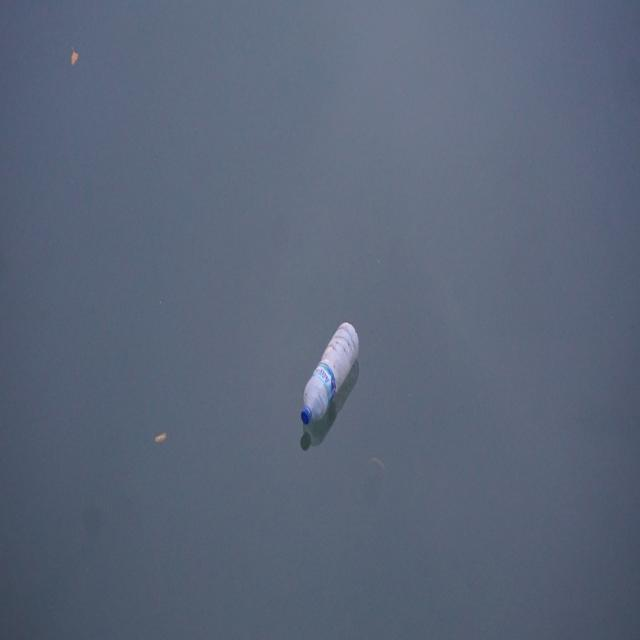Botol Plastik: (300, 310, 362, 436)
